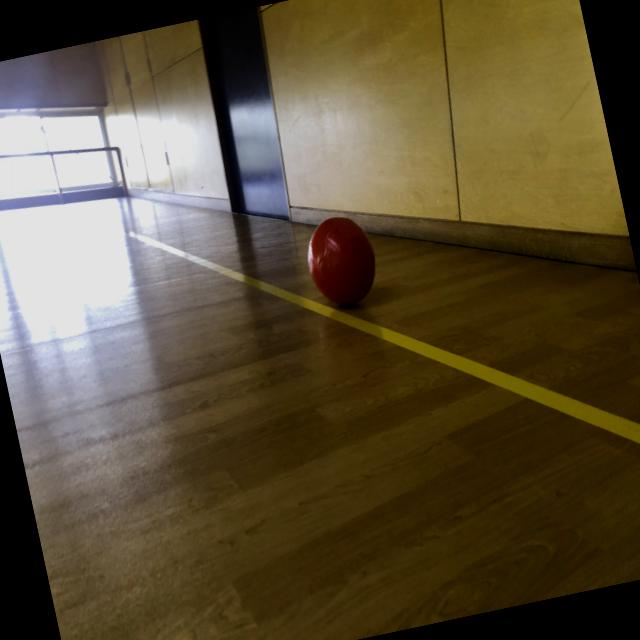red_ball: (300, 208, 384, 314)
